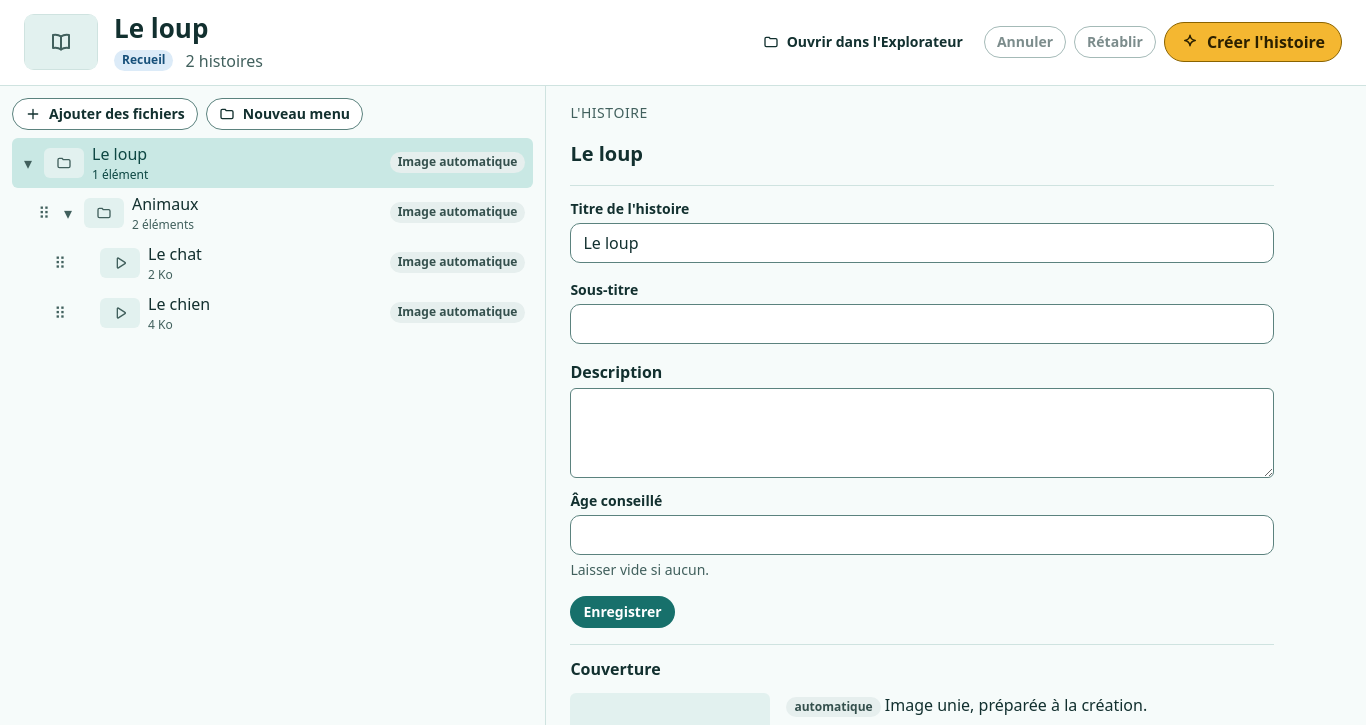
fichiers : refusés tant qu'un dialogue est ouvert
This screenshot has width=1366, height=725.
Click the button "Nouveau menu" at (284, 114), box [206,98,363,130]
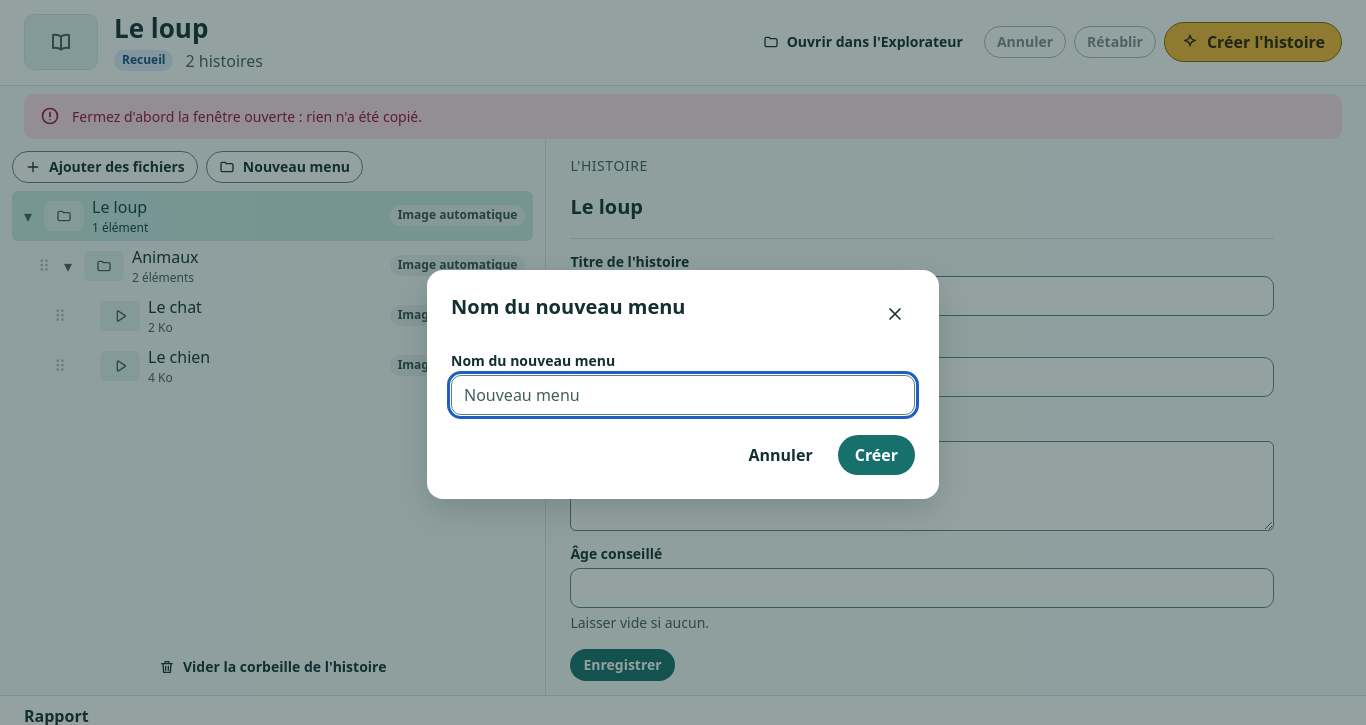
Check: the text "Fermez d'abord la fenêtre ouverte" is shown, box [72,106,422,126]
